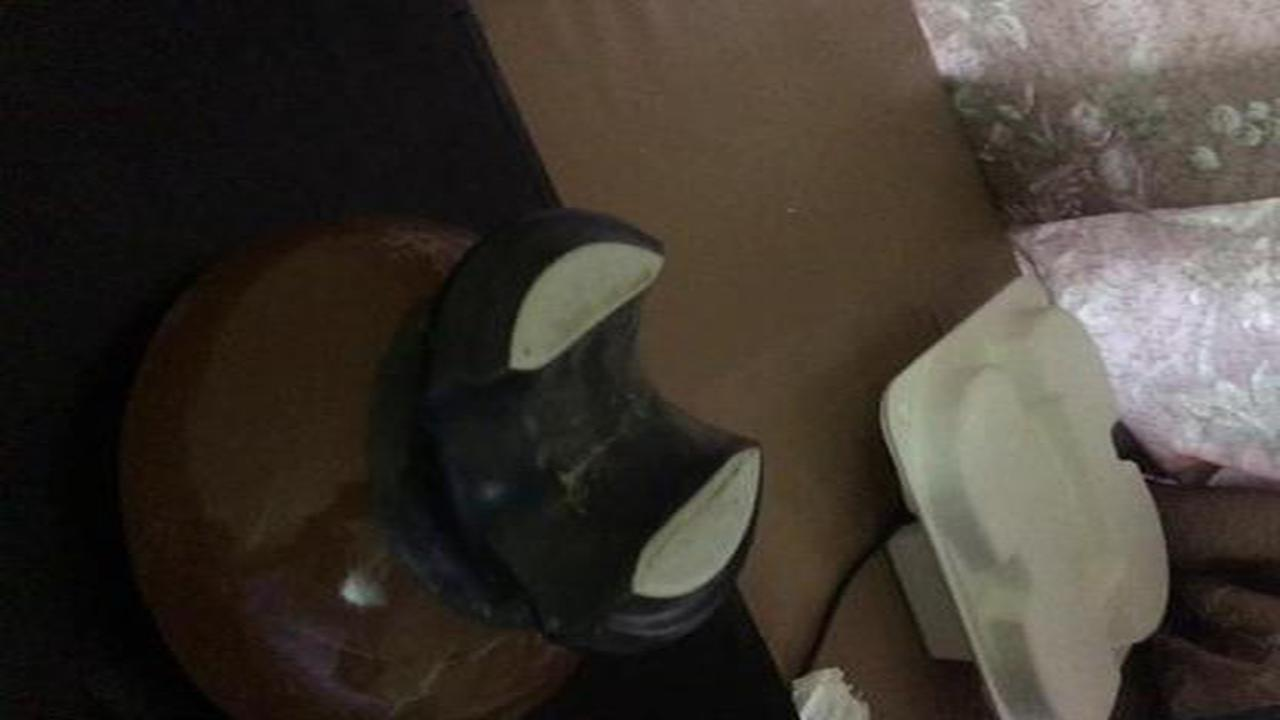insulator_pin: (68, 198, 788, 714)
